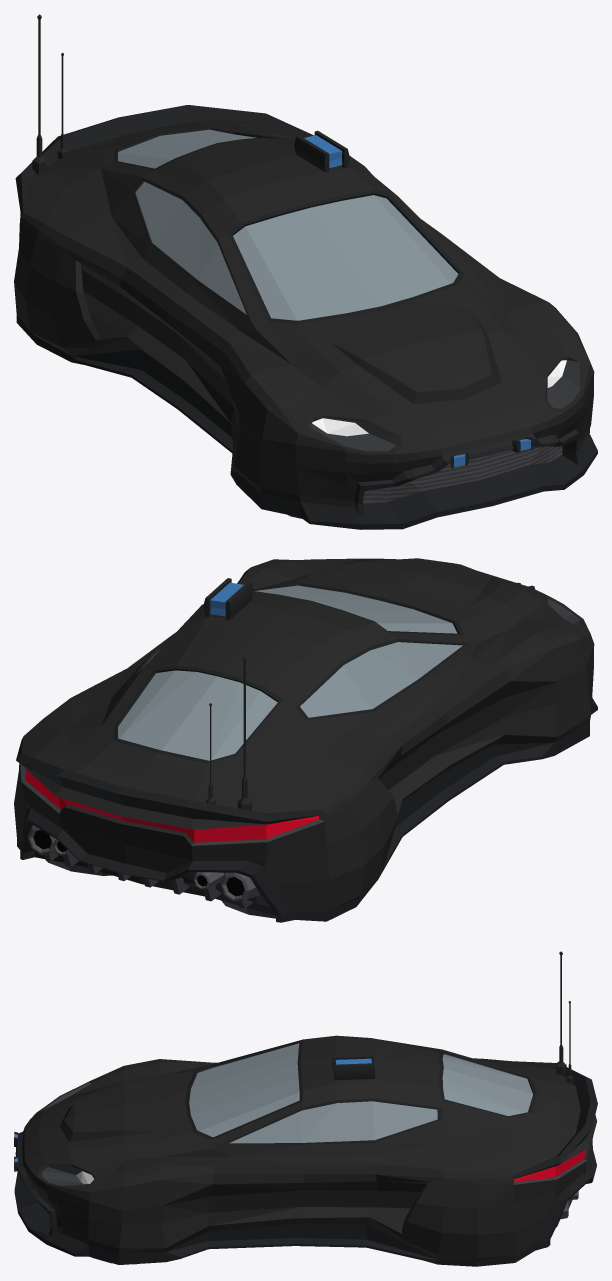
Rendered from Special_police_car.fbx.
3 views of the same model, one above another, from view 1: azimuth 30°, elevation 25°; view 2: azimuth 150°, elevation 25°; view 3: azimuth 270°, elevation 25° (orthographic). The views are drawn at different scales.
Visible parts, largest first — view 1: SM_Veh_Future_Cop_01, SM_Veh_Future_Cop_01_Glass; view 2: SM_Veh_Future_Cop_01, SM_Veh_Future_Cop_01_Glass; view 3: SM_Veh_Future_Cop_01, SM_Veh_Future_Cop_01_Glass.
Boxes of the visible parts, x1,y1,x2,y2 form: SM_Veh_Future_Cop_01: [14, 14, 597, 529]; SM_Veh_Future_Cop_01_Glass: [118, 129, 458, 320]; SM_Veh_Future_Cop_01: [14, 558, 597, 922]; SM_Veh_Future_Cop_01_Glass: [118, 585, 462, 760]; SM_Veh_Future_Cop_01: [14, 951, 597, 1266]; SM_Veh_Future_Cop_01_Glass: [189, 1043, 532, 1143].
Bounding box in the file's own units: 274 × 225 × 524.
